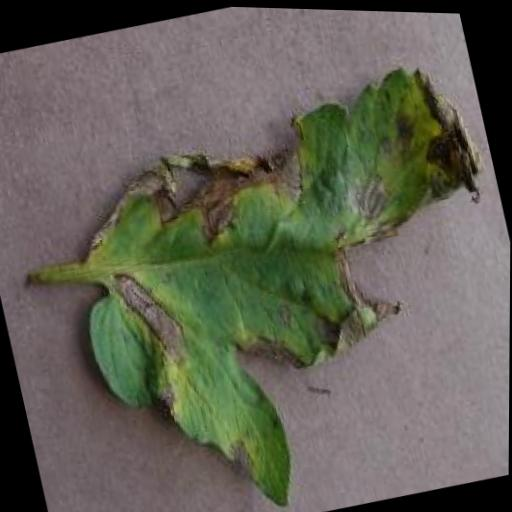Early Blight: (36, 44, 512, 512)
